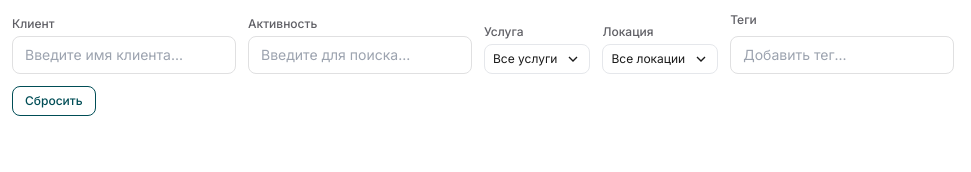
Test: PhotosFilters — reset clears the typeaheads visually › Сбросить clears the selected client label (remount)
This screenshot has width=971, height=172.
Type "Ан" into the field labelled "клиент" at (124, 55), box [12,36,236,74]
Wait 300 ms
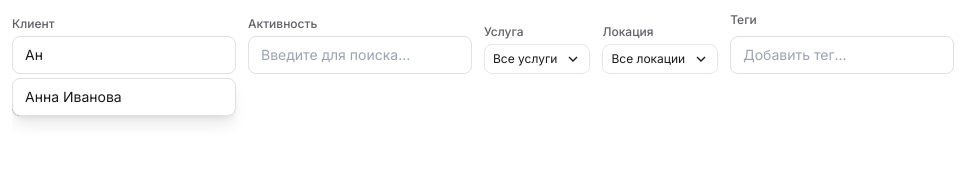
Click the option "Анна Иванова" at (73, 96), box [25,88,122,105]
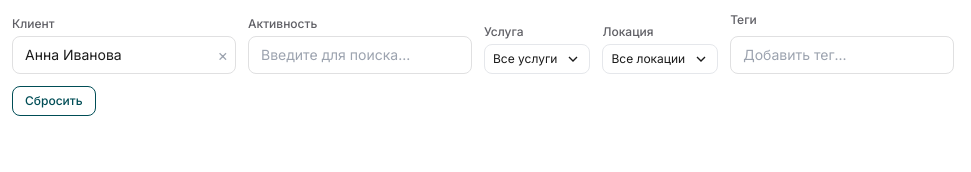
Now the field named "Клиент" holds "Анна Иванова", box [12,36,236,74]
Click the button "Сбросить" at (54, 101), box [12,86,96,116]
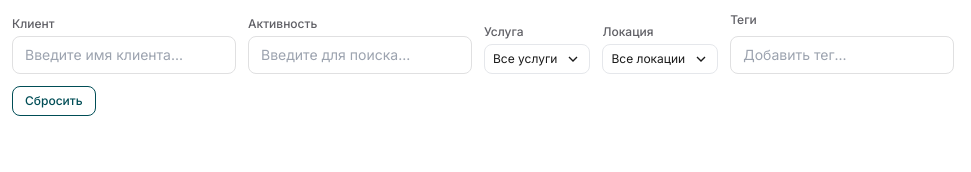
Now the field labelled "клиент" is empty, box [12,36,236,74]
